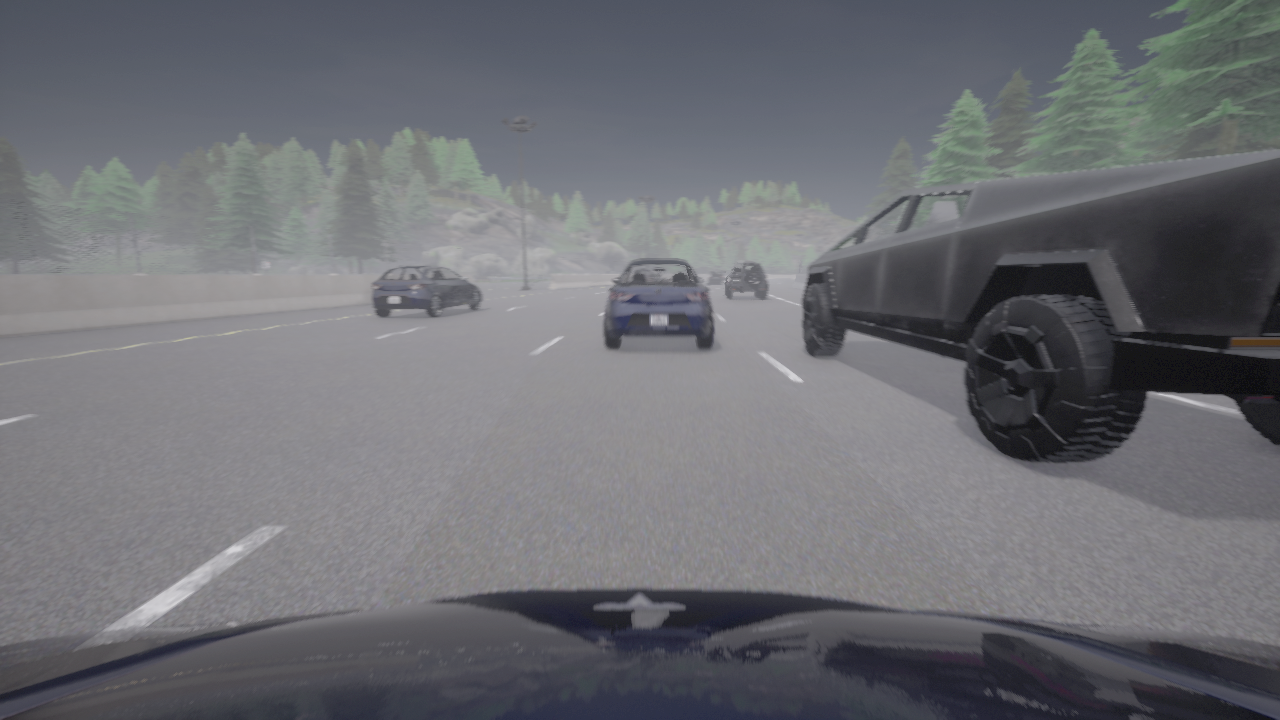cyclist: (0, 588, 1279, 719), (801, 150, 1279, 463), (605, 259, 713, 348), (371, 265, 483, 317), (724, 261, 767, 298), (707, 270, 727, 284)
